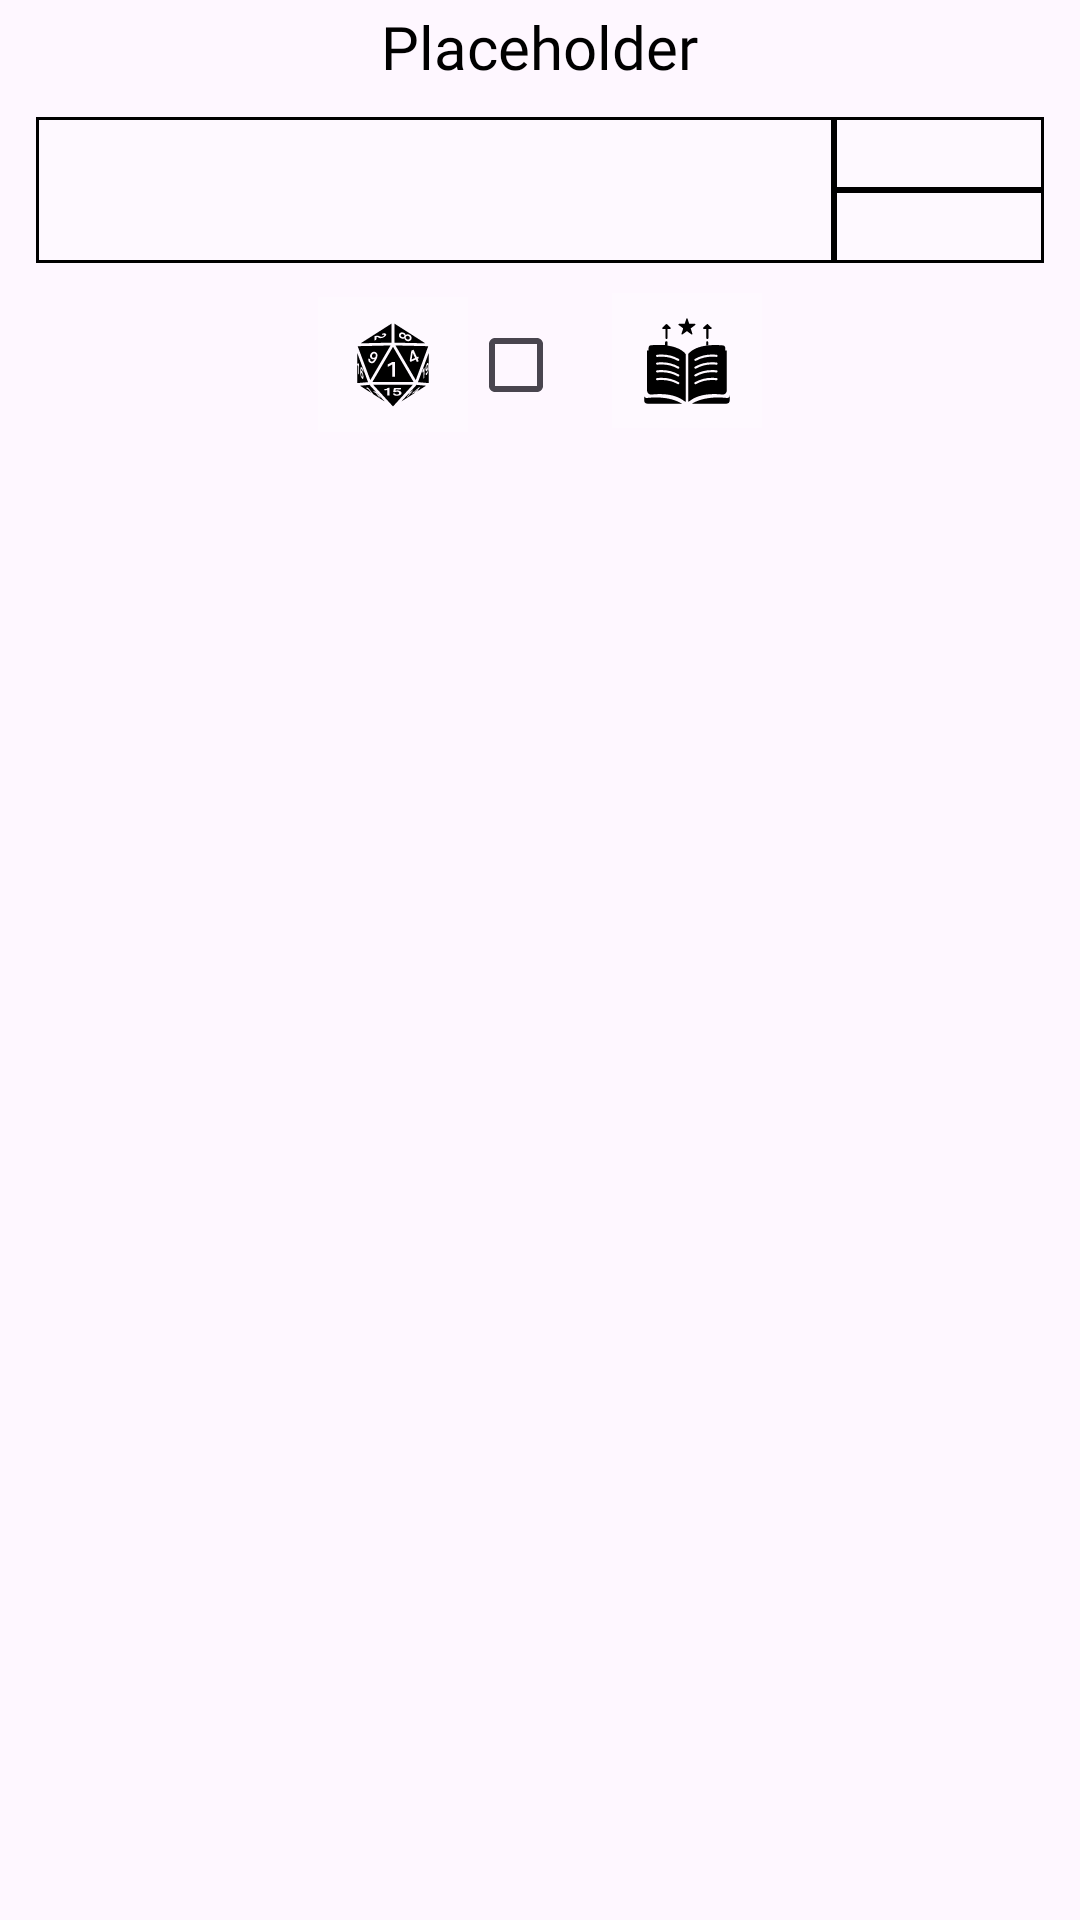

Named icons in this screenshot (1080px×1920px) and their centers, (x=x, y=y):
bookvec: (x=687, y=361)
dice: (x=393, y=364)
